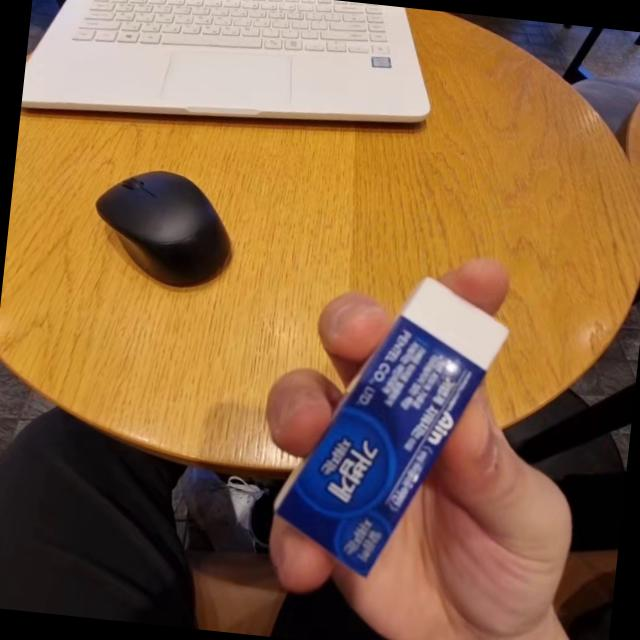eraser: (302, 274, 493, 598)
grab_eraser: (266, 240, 627, 640)
mouse: (70, 160, 236, 296)
